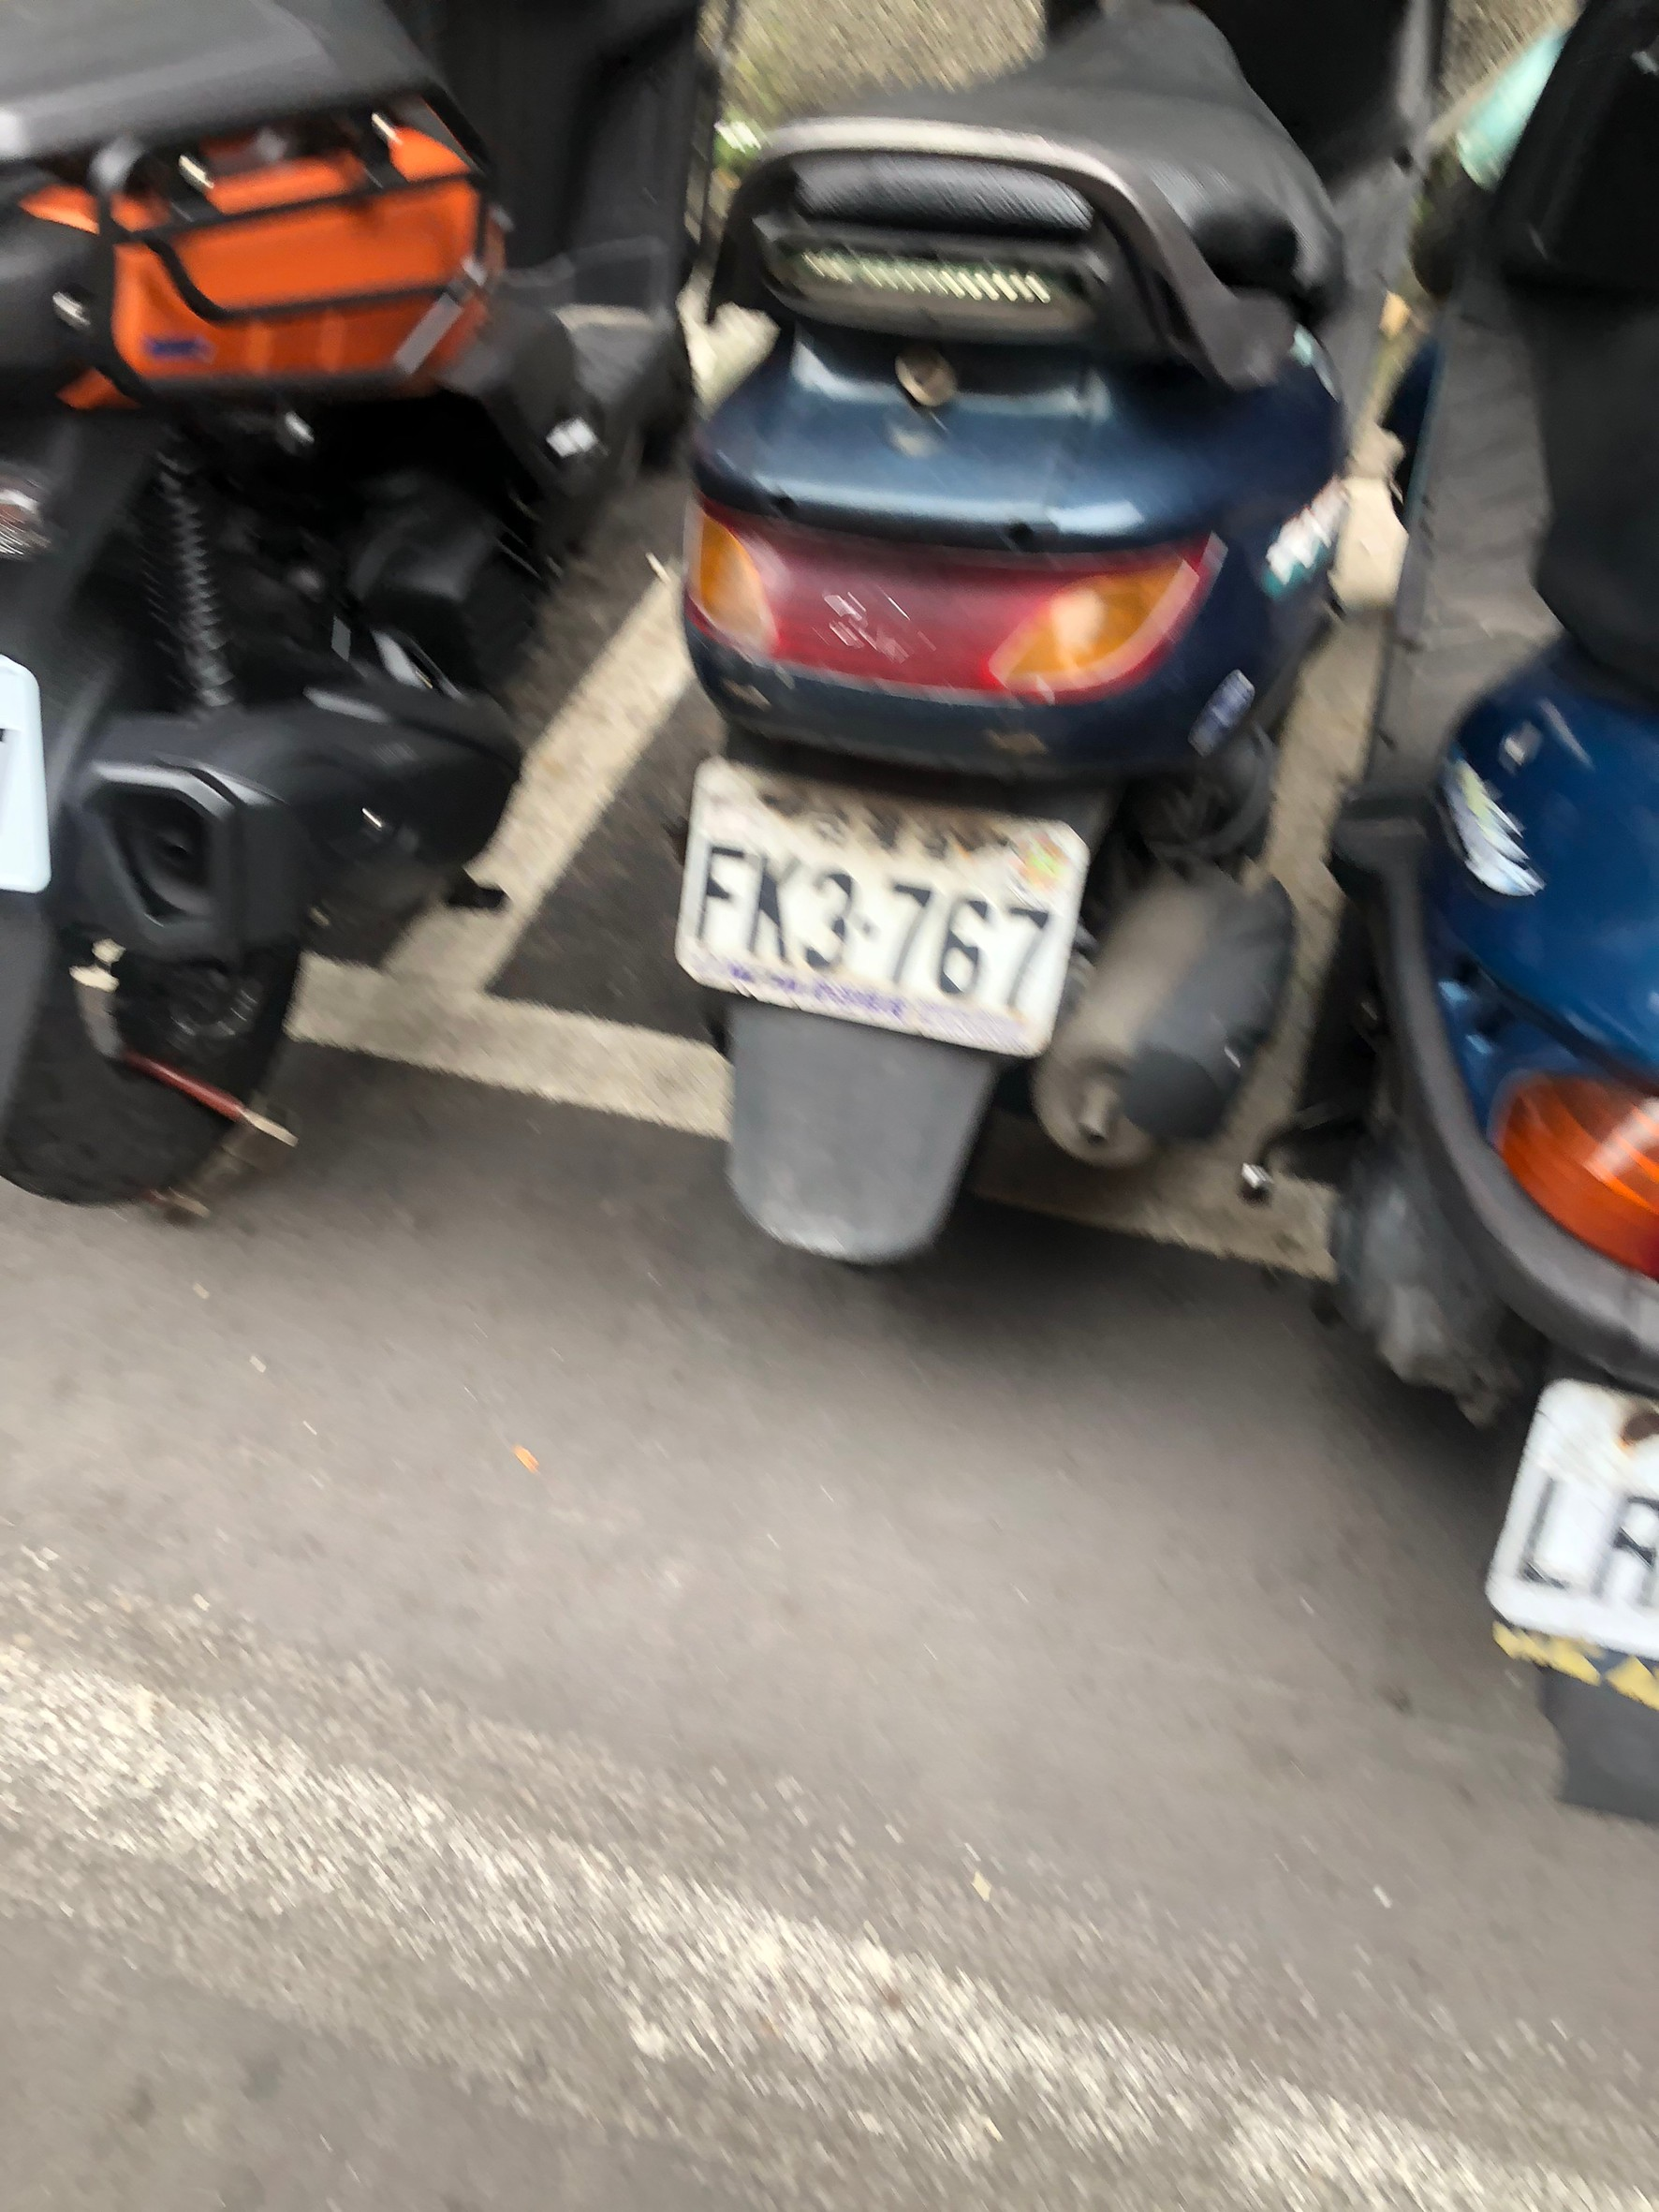LP: (692, 748, 1057, 1068), (1491, 1385, 1659, 1634)
